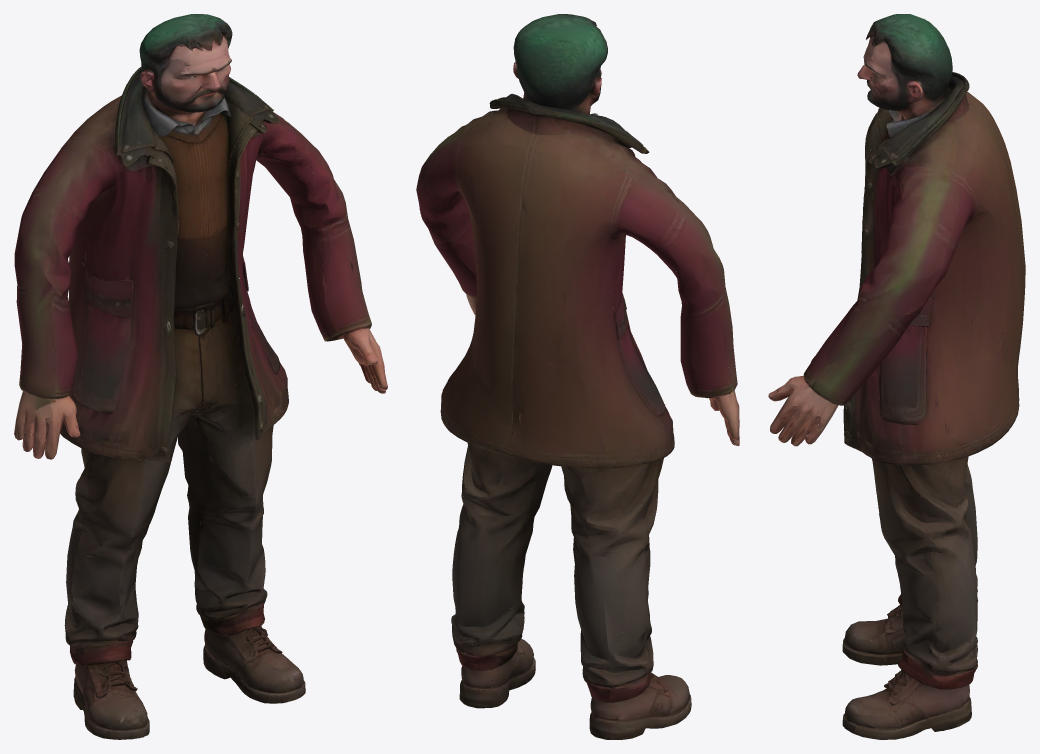
Rendered from recovery-b-posed.glb.
The picture shows the model from 3 angles, left to right: view 1: azimuth 30°, elevation 25°; view 2: azimuth 150°, elevation 25°; view 3: azimuth 270°, elevation 25°; orthographic projection.
Visible parts, largest first — view 1: hunyuan-posed-character; view 2: hunyuan-posed-character; view 3: hunyuan-posed-character.
Boxes of the visible parts, x1,y1,x2,y2 form: hunyuan-posed-character: (14, 14, 387, 739); hunyuan-posed-character: (416, 14, 739, 739); hunyuan-posed-character: (768, 14, 1025, 739).
Bounding box in the file's own units: 0.5273 × 1.07 × 0.3727.
Materials: 1 (1 with a texture image).
